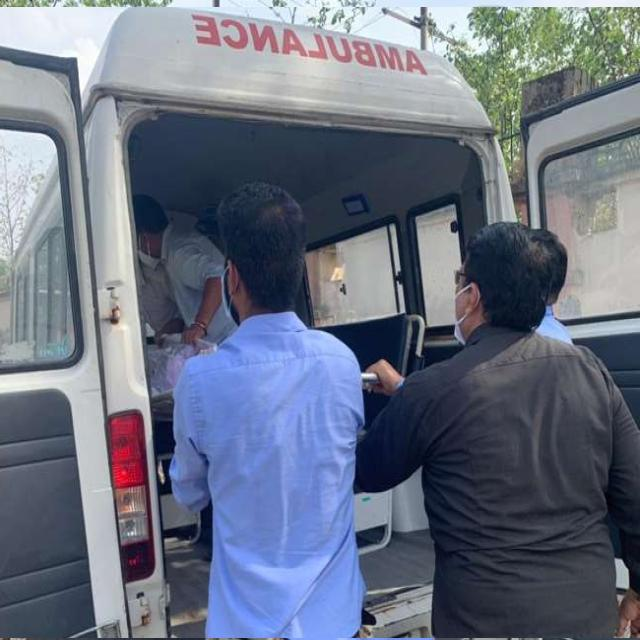emergency: (0, 7, 640, 638)
